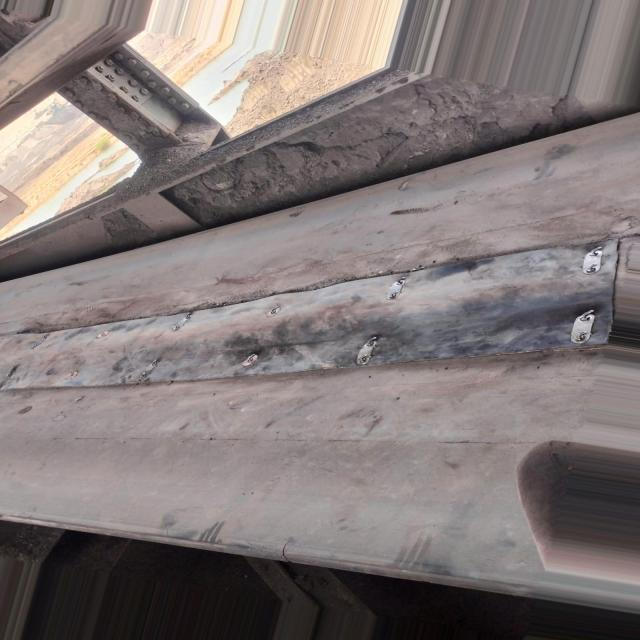patch work: (0, 229, 631, 397)
